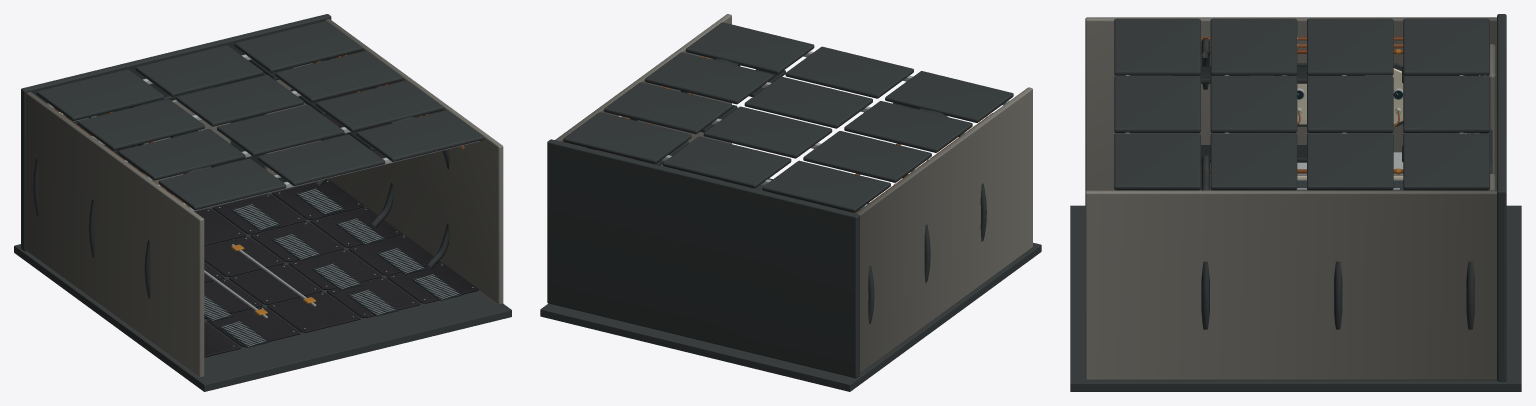
The model's file is shell-low.glb.
3 renders of one model, left to right at view 1: azimuth 30°, elevation 25°; view 2: azimuth 150°, elevation 25°; view 3: azimuth 270°, elevation 25°, orthographic. The views are drawn at different scales.
Visible parts, largest first — view 1: shell__Coated pressure frame, shell__Graphite enamel, shell__Anodized deck alloy, shell__Recess and gasket, shell__Satin aluminium, shell__Recessed titanium panels; view 2: shell__Coated pressure frame, shell__Graphite enamel; view 3: shell__Graphite enamel, shell__Coated pressure frame, shell__Ceramic medical shell, shell__Satin aluminium, shell__Copper utility conduit.
Part boxes in pixels (x1=…): shell__Coated pressure frame: x1=14, y1=14, x2=511, y2=391; shell__Graphite enamel: x1=26, y1=19, x2=503, y2=377; shell__Anodized deck alloy: x1=195, y1=179, x2=478, y2=357; shell__Recess and gasket: x1=66, y1=62, x2=462, y2=347; shell__Satin aluminium: x1=47, y1=54, x2=479, y2=346; shell__Recessed titanium panels: x1=68, y1=63, x2=460, y2=345; shell__Coated pressure frame: x1=540, y1=22, x2=1041, y2=391; shell__Graphite enamel: x1=555, y1=14, x2=1032, y2=373; shell__Graphite enamel: x1=1085, y1=17, x2=1496, y2=380; shell__Coated pressure frame: x1=1070, y1=14, x2=1521, y2=391; shell__Ceramic medical shell: x1=1282, y1=68, x2=1467, y2=179; shell__Satin aluminium: x1=1124, y1=37, x2=1486, y2=189; shell__Copper utility conduit: x1=1201, y1=37, x2=1403, y2=173.
Size of the model in its own units: 7.08 by 3.69 by 7.5.
Materials: 16 (1 with a texture image).
